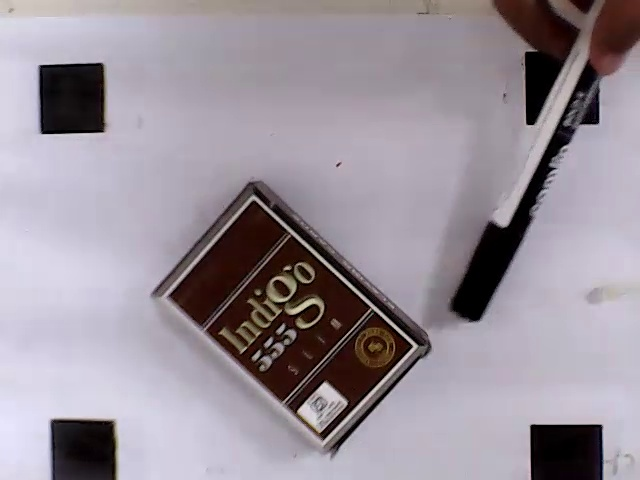BEX: (164, 196, 415, 444)
